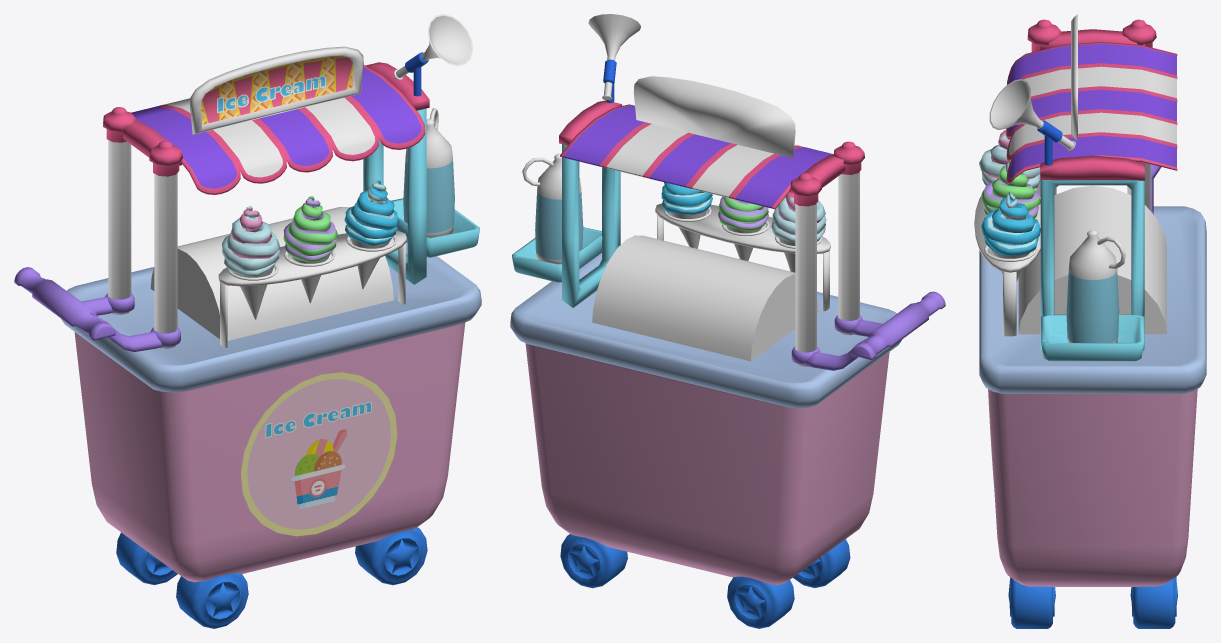
The model's file is 1ice cream truck.fbx.
3 views of the same model, side by side, from view 1: azimuth 30°, elevation 25°; view 2: azimuth 150°, elevation 25°; view 3: azimuth 270°, elevation 25° (orthographic). The views are drawn at different scales.
Parts seen in each view (by area): view 1: down truck, top truck, logo, glass, wheels, holder, pink ice cream, bottle, blue ice cream, green ice cream, speaker; view 2: down truck, top truck, glass, wheels, holder, bottle, speaker, blue ice cream, green ice cream, pink ice cream; view 3: down truck, top truck, glass, bottle, wheels, blue ice cream, speaker, holder, green ice cream, pink ice cream.
Boxes of the visible parts, x1=… form: down truck: x1=61, y1=242, x2=481, y2=582; top truck: x1=14, y1=46, x2=479, y2=351; logo: x1=241, y1=372, x2=397, y2=536; glass: x1=150, y1=207, x2=393, y2=340; wheels: x1=116, y1=527, x2=427, y2=628; holder: x1=218, y1=231, x2=406, y2=347; pink ice cream: x1=222, y1=206, x2=280, y2=319; bottle: x1=403, y1=108, x2=454, y2=237; blue ice cream: x1=344, y1=179, x2=399, y2=289; green ice cream: x1=283, y1=196, x2=337, y2=303; speaker: x1=394, y1=14, x2=472, y2=96; down truck: x1=510, y1=253, x2=901, y2=585; top truck: x1=512, y1=76, x2=945, y2=370; glass: x1=592, y1=235, x2=818, y2=361; wheels: x1=560, y1=534, x2=850, y2=628; holder: x1=655, y1=203, x2=830, y2=311; bottle: x1=522, y1=153, x2=583, y2=263; speaker: x1=588, y1=14, x2=640, y2=102; blue ice cream: x1=661, y1=182, x2=712, y2=248; green ice cream: x1=718, y1=196, x2=768, y2=260; pink ice cream: x1=771, y1=192, x2=826, y2=272; down truck: x1=979, y1=206, x2=1206, y2=586; top truck: x1=1006, y1=14, x2=1177, y2=361; glass: x1=1018, y1=185, x2=1166, y2=334; bottle: x1=1066, y1=230, x2=1125, y2=342; wheels: x1=1008, y1=576, x2=1177, y2=628; blue ice cream: x1=981, y1=191, x2=1040, y2=281; speaker: x1=989, y1=79, x2=1075, y2=165; holder: x1=974, y1=188, x2=1040, y2=336; green ice cream: x1=981, y1=160, x2=1040, y2=218; pink ice cream: x1=979, y1=128, x2=1040, y2=188.
Size of the model in its own units: 4.13 by 5.4 by 2.01.
